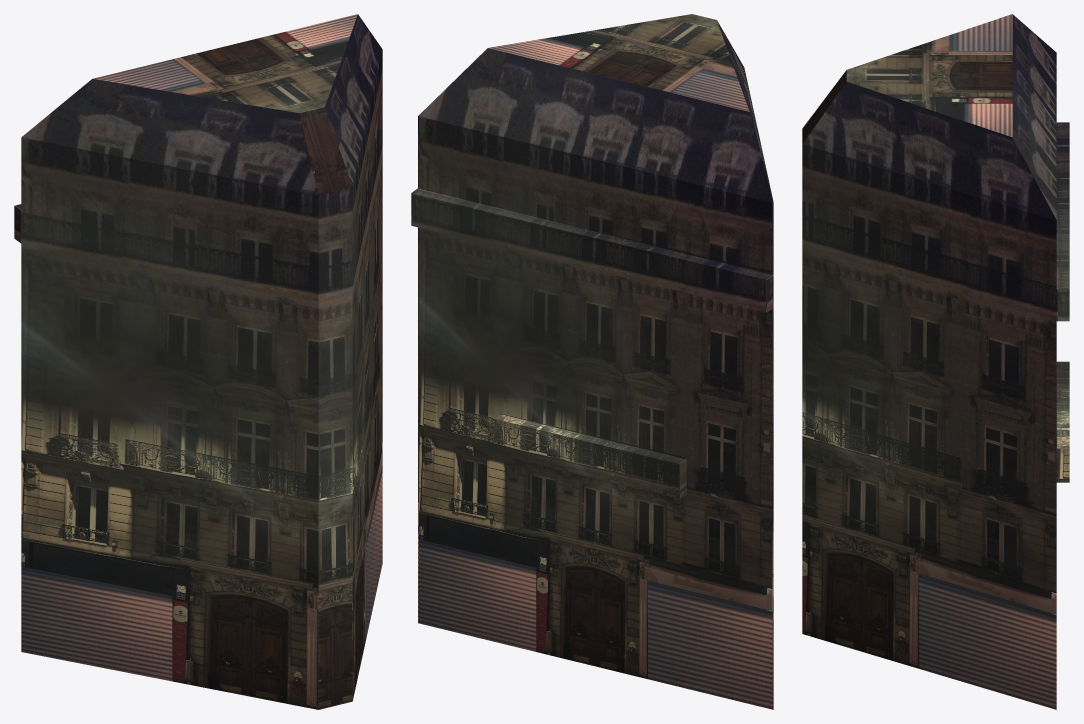
The model's file is Generic3.fbx.
3 renders of one model, left to right at view 1: azimuth 30°, elevation 25°; view 2: azimuth 150°, elevation 25°; view 3: azimuth 270°, elevation 25°, orthographic. The views are drawn at different scales.
Visible parts, largest first — view 1: Generic3; view 2: Generic3; view 3: Generic3.
Part boxes in pixels (x1,y1,x2,y2): Generic3: [14, 14, 382, 709]; Generic3: [411, 14, 773, 709]; Generic3: [802, 14, 1069, 709].
Bounding box in the file's own units: 12.41 × 8.36 × 18.99.
Materials: 1 (1 with a texture image).
